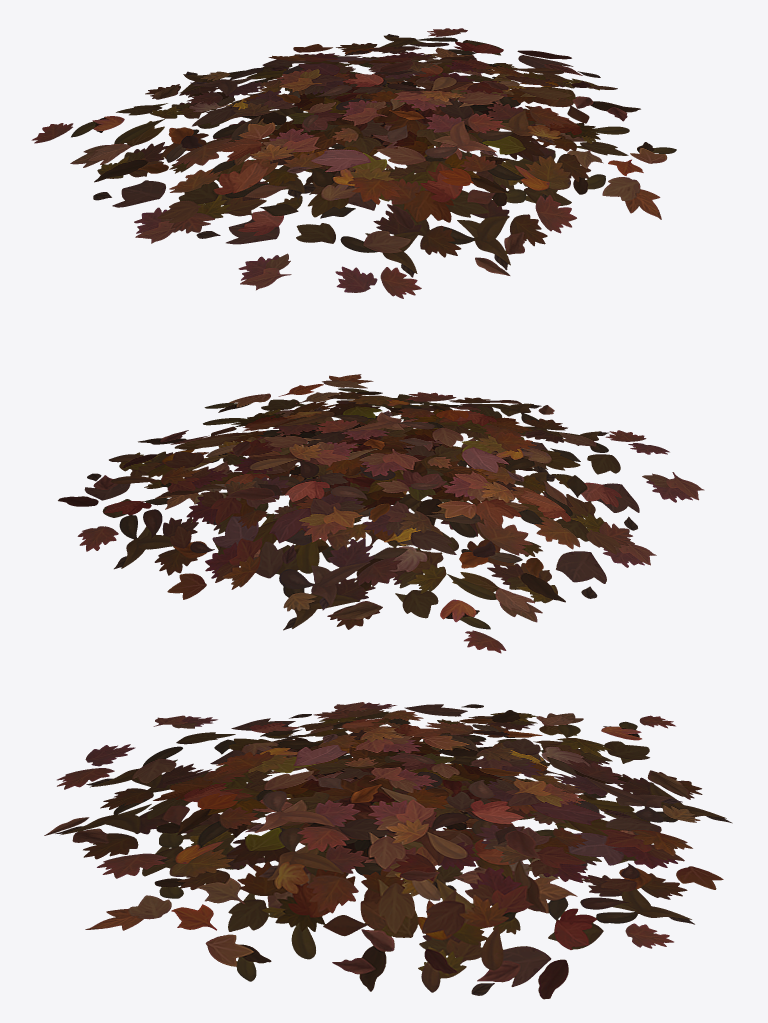
Rendered from leaf_heap_03.fbx.
3 renders of one model, top to bottom at view 1: azimuth 30°, elevation 25°; view 2: azimuth 150°, elevation 25°; view 3: azimuth 270°, elevation 25°, orthographic. The views are drawn at different scales.
Visible parts, largest first — view 1: leaf_heap_03_mesh; view 2: leaf_heap_03_mesh; view 3: leaf_heap_03_mesh.
Part boxes in pixels (x1,y1,x2,y2): leaf_heap_03_mesh: [31, 28, 676, 298]; leaf_heap_03_mesh: [58, 374, 704, 653]; leaf_heap_03_mesh: [44, 702, 732, 999].
Bounding box in the file's own units: 116 × 12.33 × 116.
